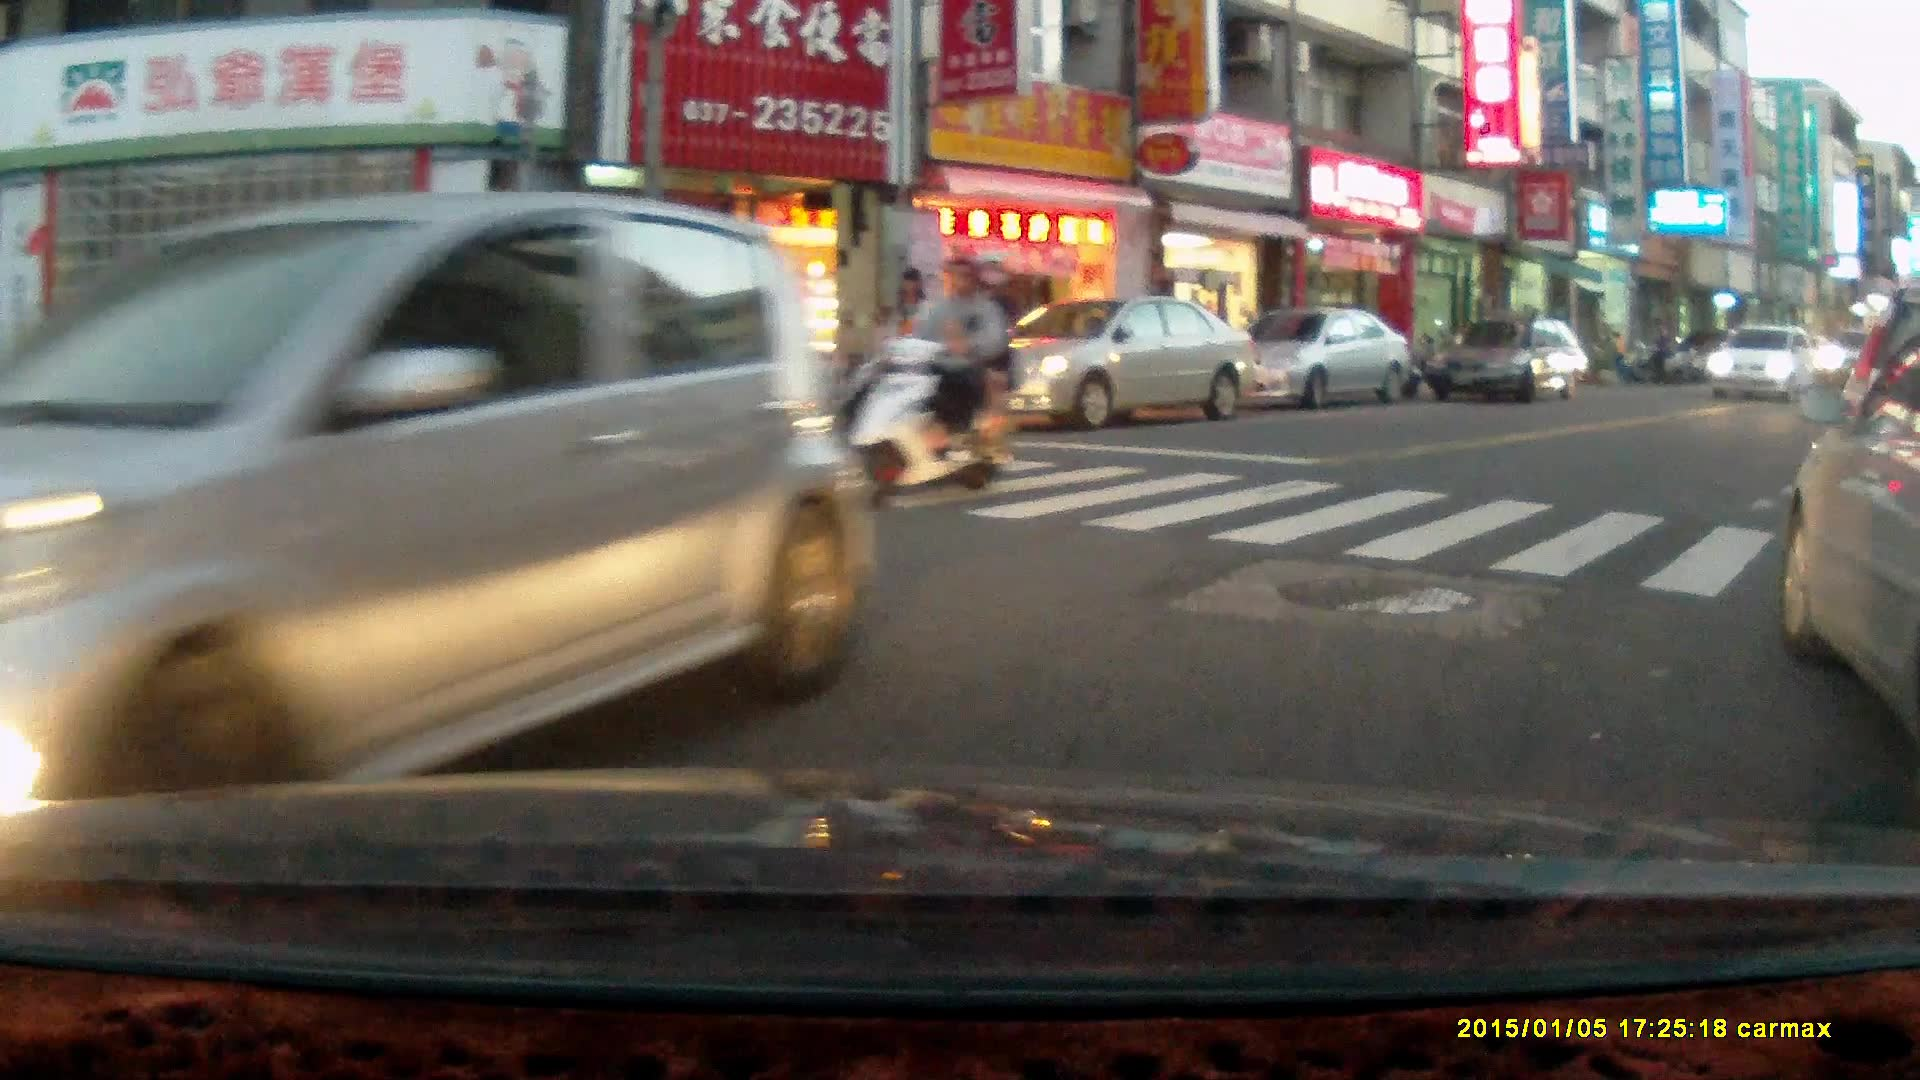rider: (840, 245, 1016, 508)
vehicle: (1, 185, 880, 875), (1773, 335, 1920, 737), (964, 295, 1263, 426), (1221, 308, 1416, 405), (1425, 315, 1592, 410), (1705, 323, 1825, 401)
